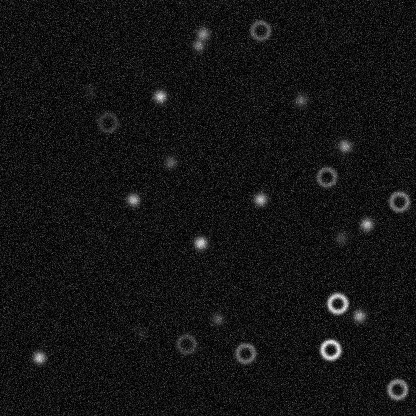Ring: (174, 331, 198, 355), (385, 377, 409, 401), (233, 341, 257, 365), (95, 110, 119, 134), (387, 189, 411, 213), (318, 337, 342, 361), (325, 291, 349, 315), (248, 18, 272, 42), (314, 164, 338, 188)
Spot: (358, 216, 374, 232), (125, 191, 141, 207), (151, 88, 167, 104), (192, 234, 208, 250), (194, 25, 210, 41), (351, 307, 367, 323), (133, 324, 149, 340), (162, 154, 178, 170), (292, 92, 308, 108), (190, 37, 206, 53), (81, 83, 97, 99), (30, 349, 46, 365), (333, 229, 349, 245), (336, 138, 352, 154), (209, 311, 225, 327), (252, 191, 268, 207)
